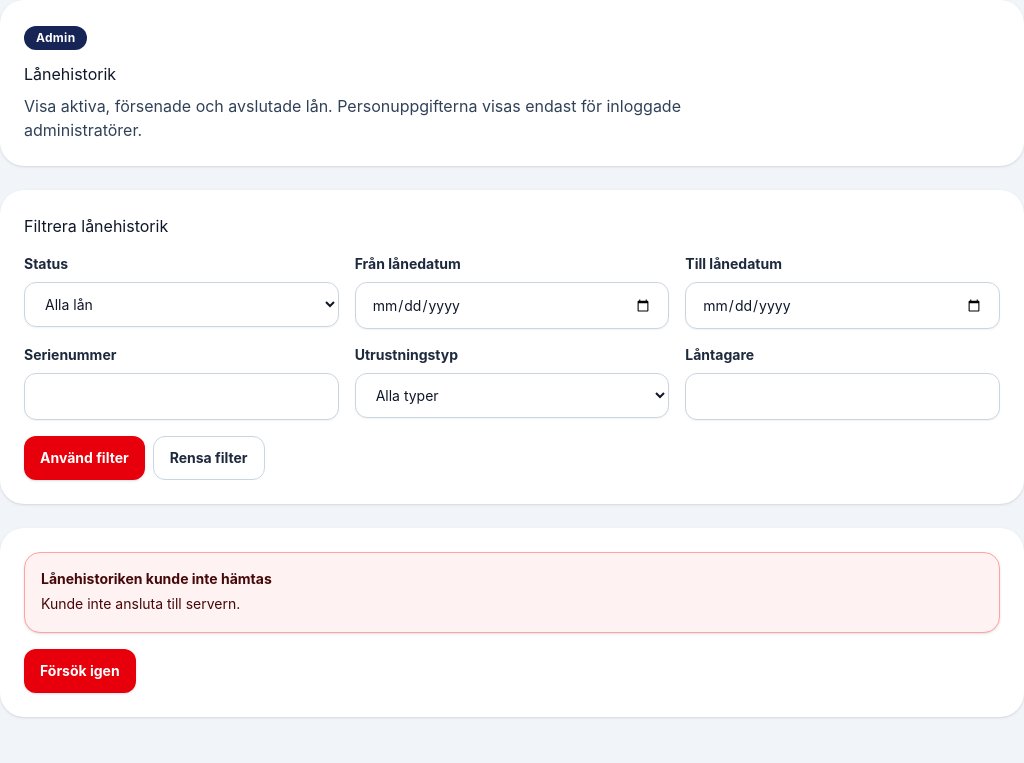
Test case: ActiveLoansPage › shows load error and retries request
The width and height of the screenshot is (1024, 763).
Expected: the message "Lånehistoriken kunde inte hämtas Kunde inte ansluta till servern." is shown, 24,552 -> 1000,633
Click the button "Försök igen" at (80, 671), box 24,649 -> 136,693
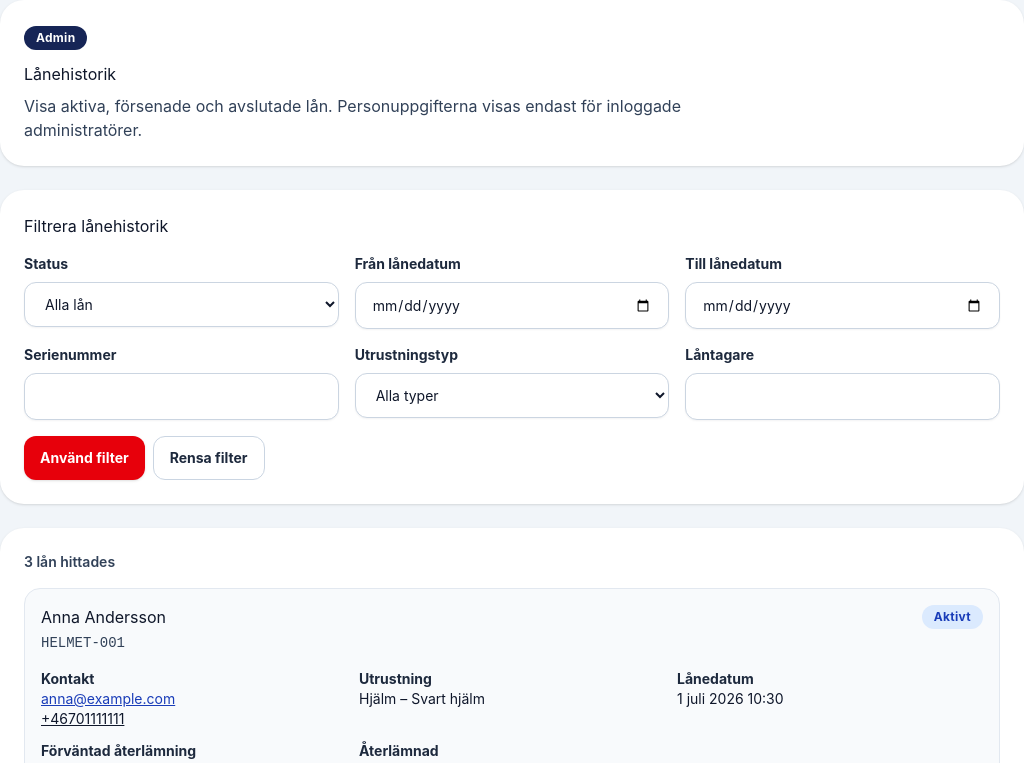
Result: the heading "Anna Andersson" is shown at 41,605 -> 166,629
